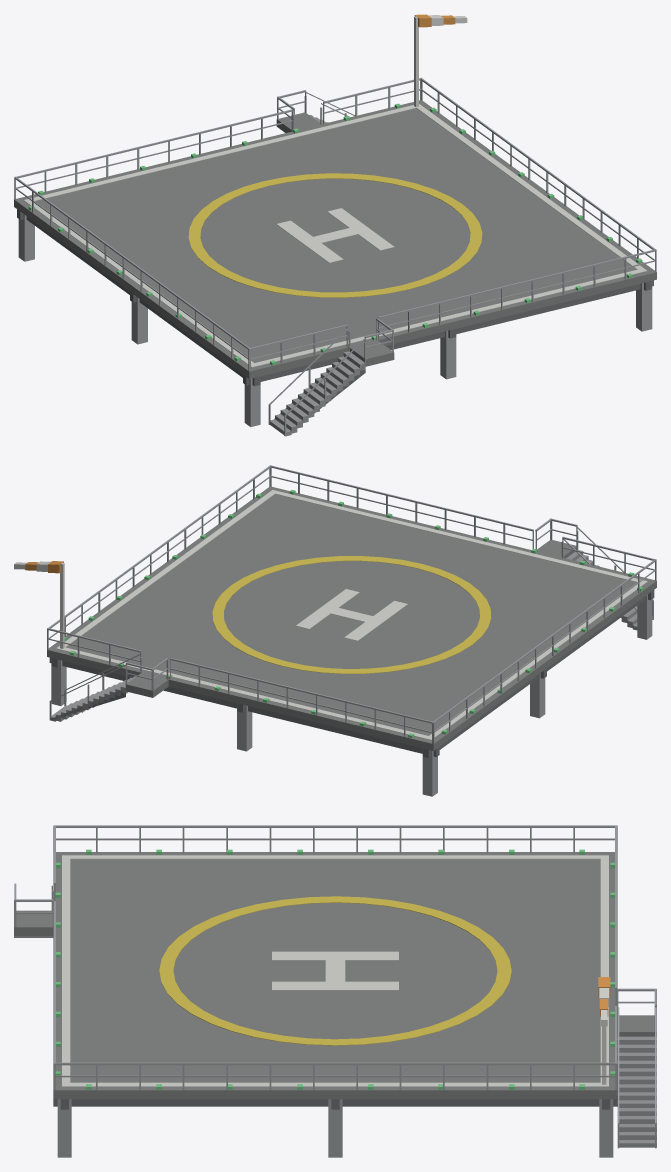
The model's file is helideck.v1.lod0.glb.
3 renders of one model, top to bottom at view 1: azimuth 30°, elevation 25°; view 2: azimuth 150°, elevation 25°; view 3: azimuth 270°, elevation 25°, orthographic. The views are drawn at different scales.
Parts seen in each view (by area): view 1: helideck; view 2: helideck; view 3: helideck.
Part boxes in pixels (x1,y1,x2,y2): helideck: (14, 14, 656, 436); helideck: (14, 465, 656, 796); helideck: (14, 825, 656, 1157).
Bounding box in the file's own units: 21.9 × 6.91 × 22.8.
